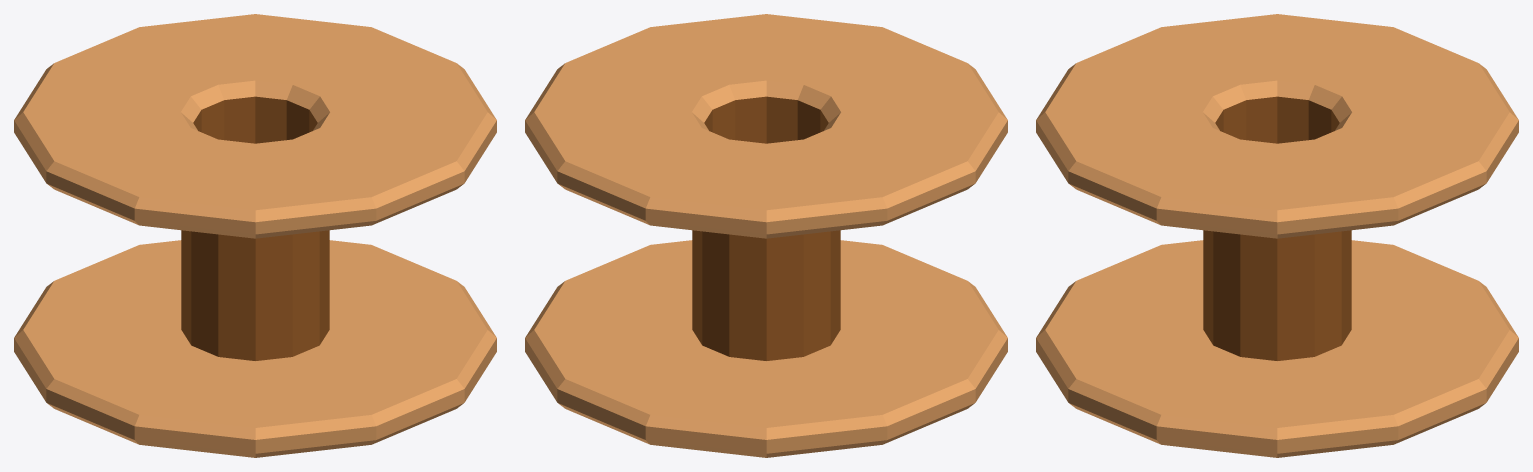
Rendered from Spool A.glb.
3 renders of one model, left to right at view 1: azimuth 30°, elevation 25°; view 2: azimuth 150°, elevation 25°; view 3: azimuth 270°, elevation 25°, orthographic.
Parts seen in each view (by area): view 1: Spool A; view 2: Spool A; view 3: Spool A.
Part boxes in pixels (bbox=[...]): Spool A: bbox=[14, 14, 496, 457]; Spool A: bbox=[525, 14, 1007, 457]; Spool A: bbox=[1036, 14, 1518, 457].
Bounding box in the file's own units: 199 × 113 × 199.
